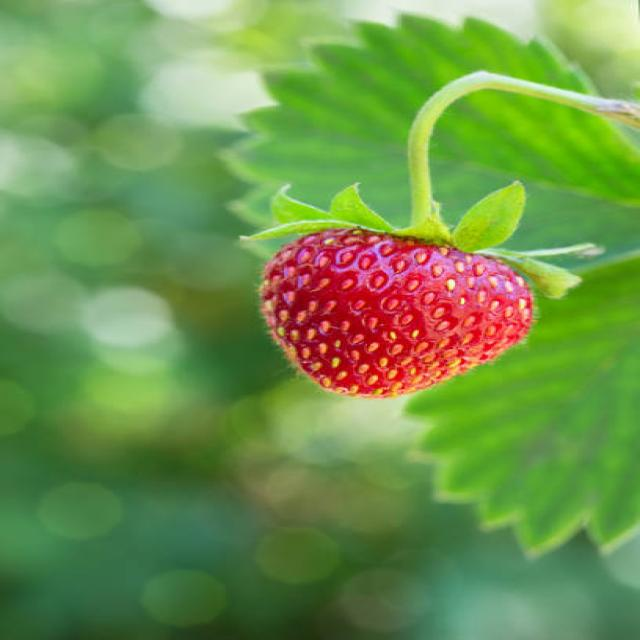Healthy Fruit: (259, 229, 537, 400)
